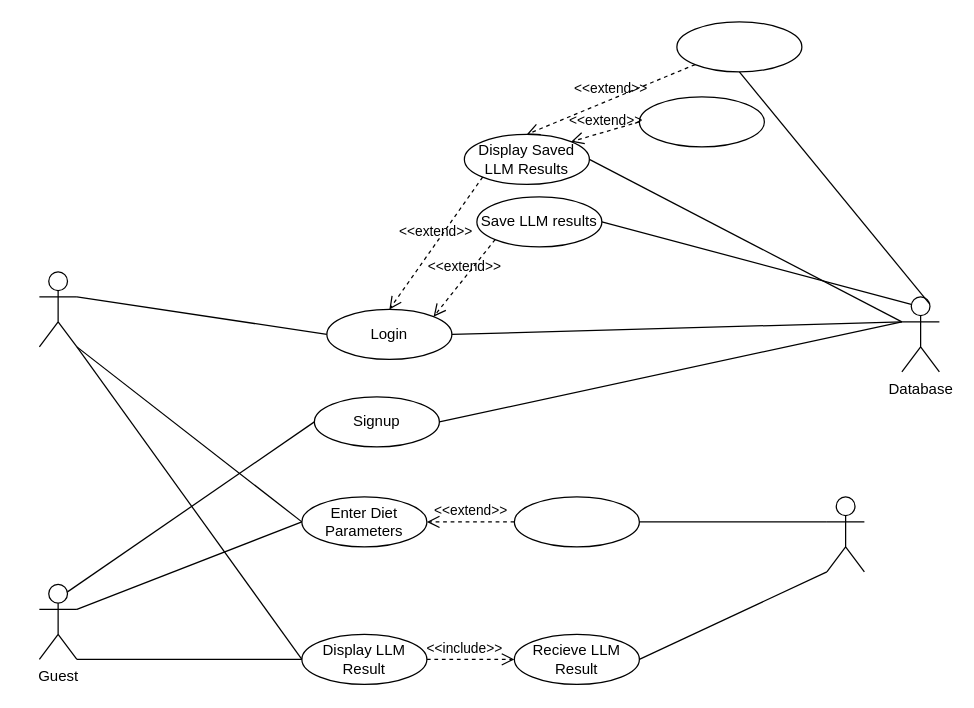
Image size: 974x708. Some labels were removed from this diagram. Here are the shapes that lost their labels. From the top down, the box of each, then its label:
(676, 21, 802, 72): Delete Saved LLM Result
(638, 96, 764, 147): Edit Saved LLM Result
(38, 271, 77, 347): Registered User
(513, 496, 639, 547): Send Parameters to LLM
(826, 496, 864, 572): LLM Model
